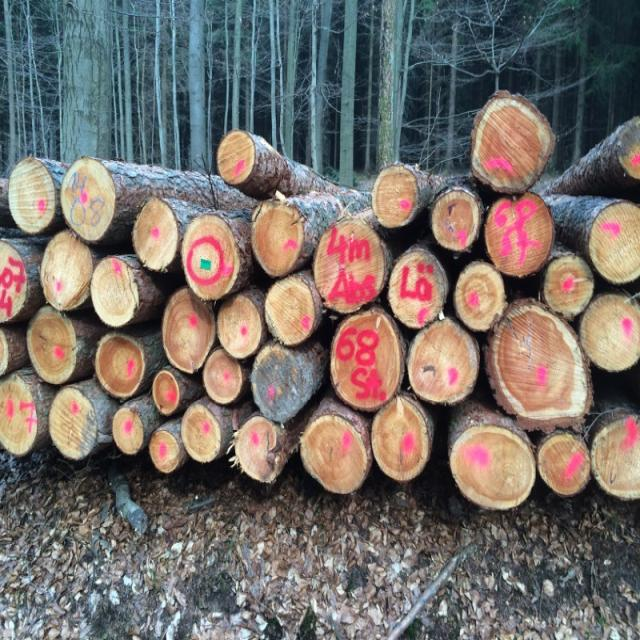wood-log: (483, 301, 590, 431), (472, 96, 555, 192), (328, 310, 402, 411), (452, 426, 538, 512), (314, 216, 390, 312), (298, 408, 371, 492), (408, 317, 479, 403), (483, 196, 553, 280), (372, 395, 432, 485), (181, 212, 241, 298), (160, 289, 216, 376), (389, 248, 450, 326), (60, 160, 116, 244), (582, 294, 640, 373), (588, 415, 638, 502), (584, 201, 638, 281), (42, 232, 95, 312), (252, 341, 306, 419), (252, 199, 307, 274), (262, 274, 319, 346), (5, 160, 56, 236), (50, 386, 100, 462), (0, 372, 45, 456), (28, 309, 78, 383), (455, 262, 507, 331), (538, 432, 592, 498), (132, 201, 180, 274), (88, 256, 136, 328), (232, 416, 283, 482), (542, 254, 596, 316), (214, 292, 264, 358), (429, 190, 481, 252), (369, 166, 419, 229), (96, 336, 146, 398), (178, 401, 220, 462), (0, 242, 29, 325), (201, 350, 243, 406), (218, 133, 258, 186), (111, 406, 145, 455), (150, 428, 186, 473), (153, 370, 184, 416), (620, 114, 640, 182), (0, 327, 8, 376)
